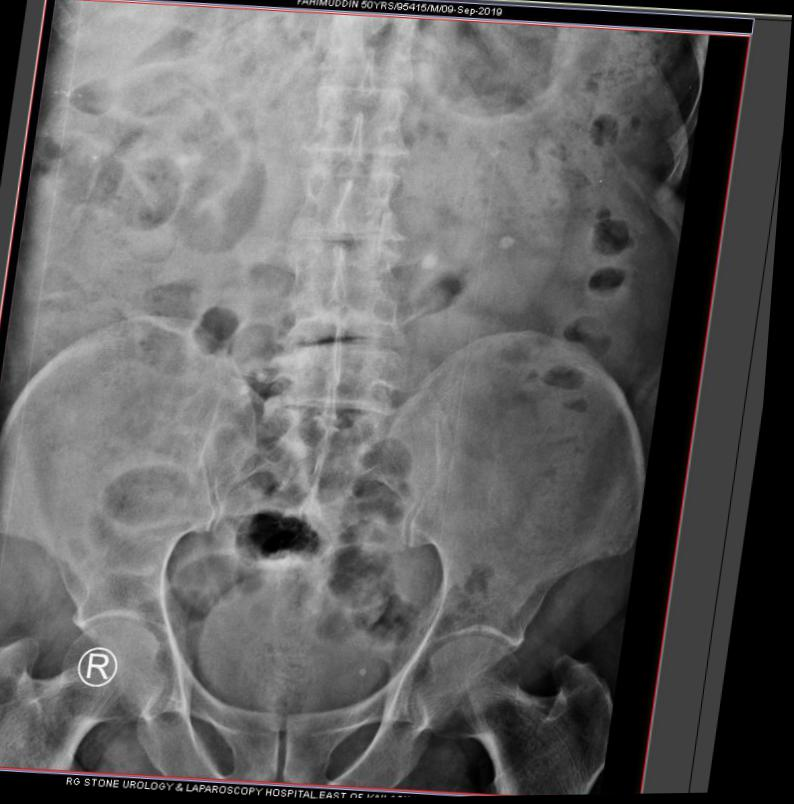bladder: (196, 559, 416, 723)
